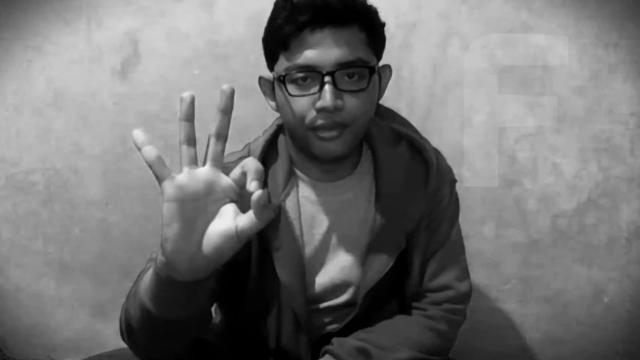F: (128, 82, 280, 252)
